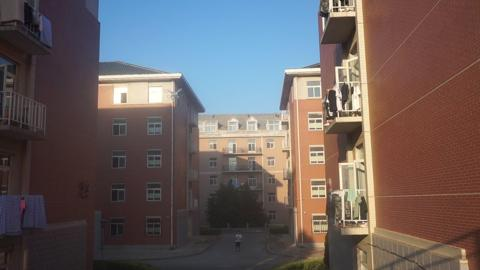UAV: (164, 88, 187, 100)
